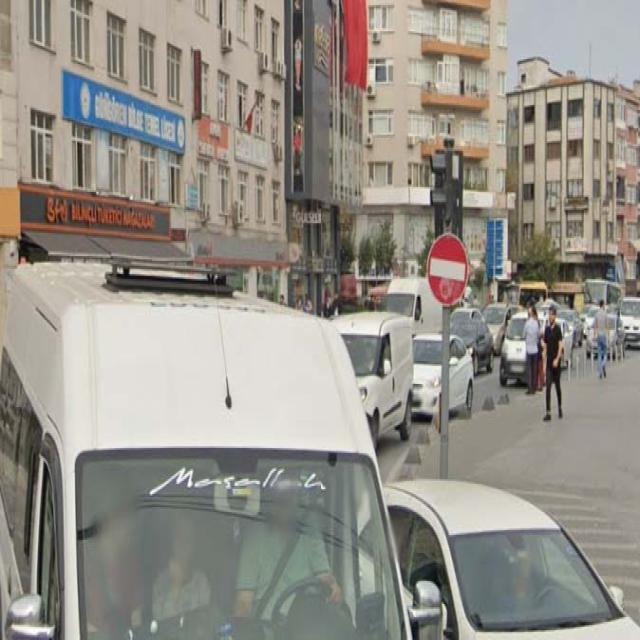girisyok: (428, 233, 469, 307)
